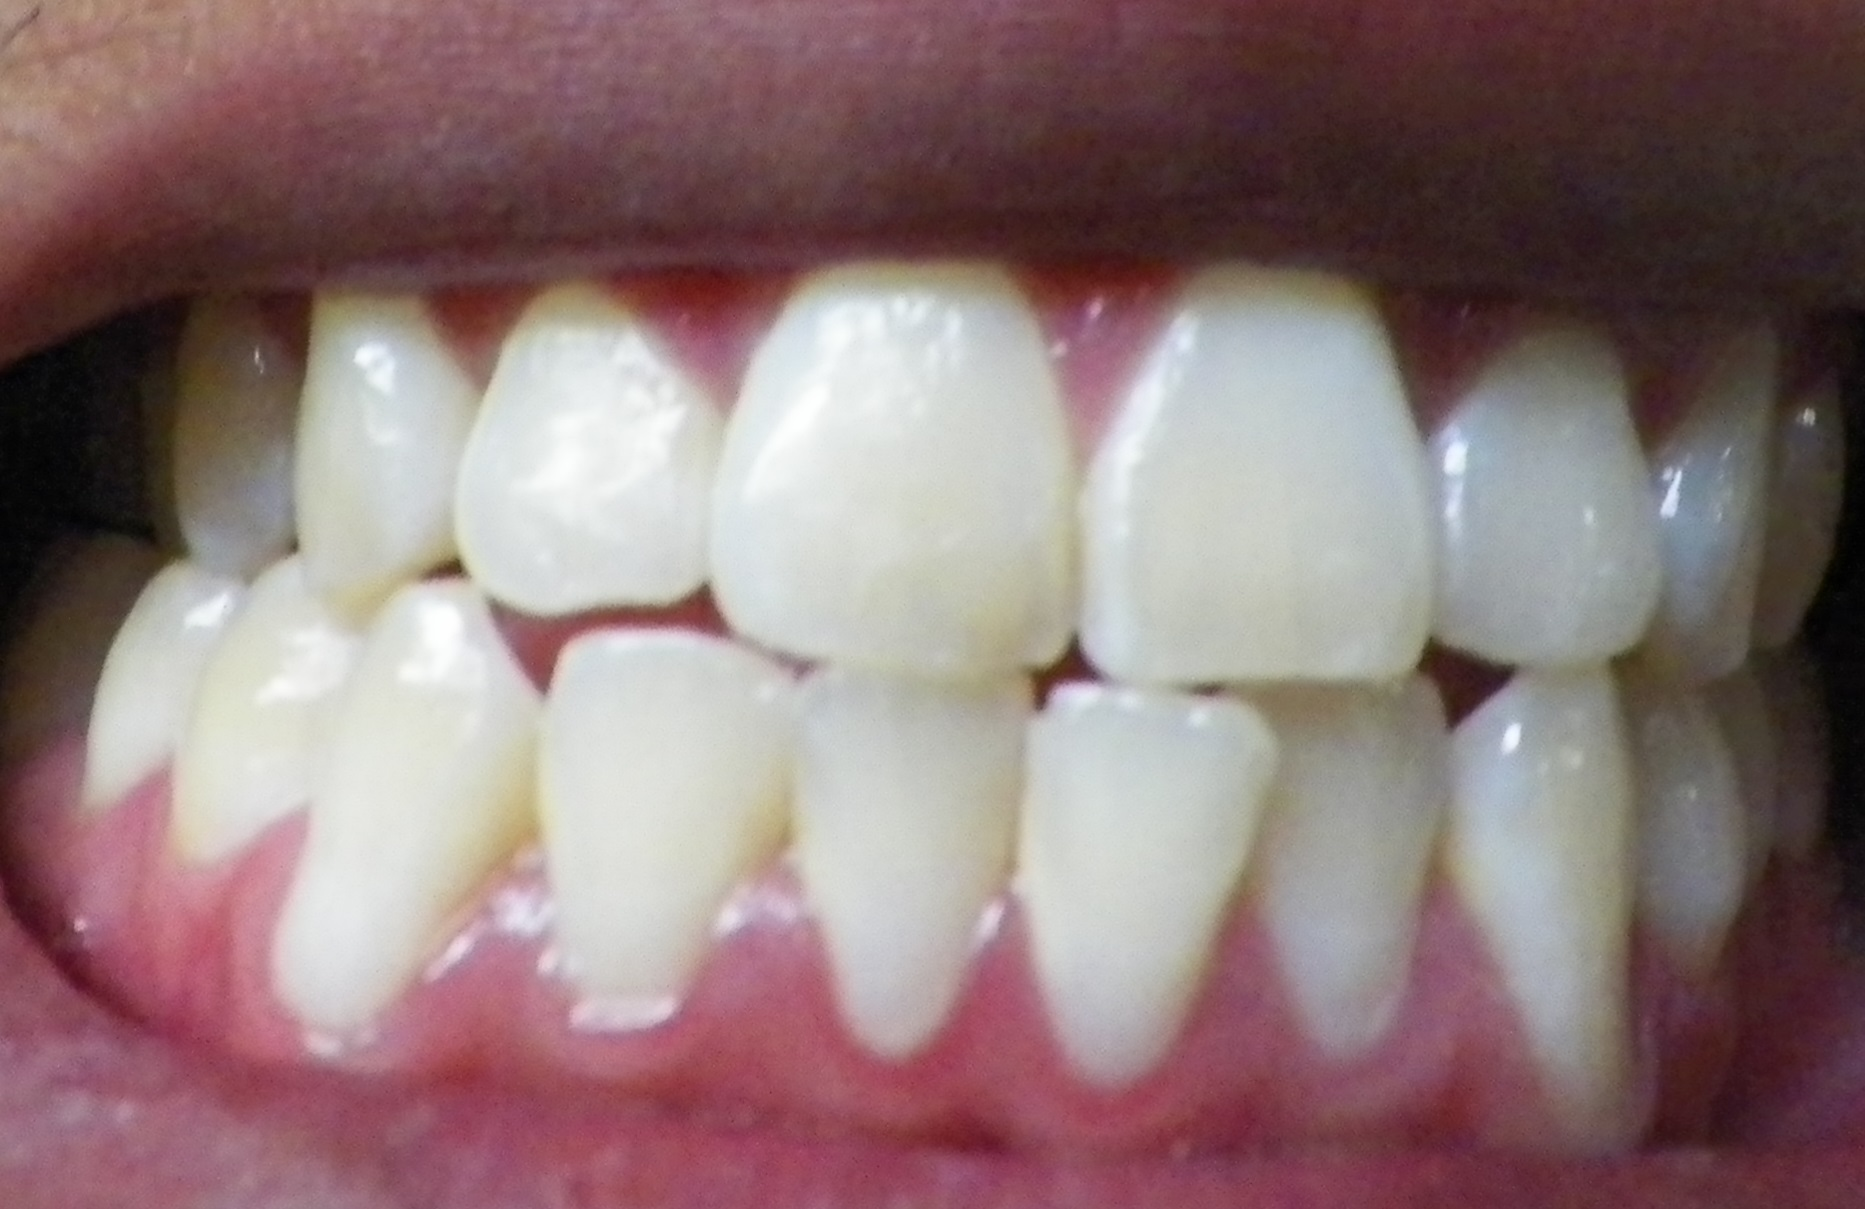boca: (63, 260, 1834, 1138)
